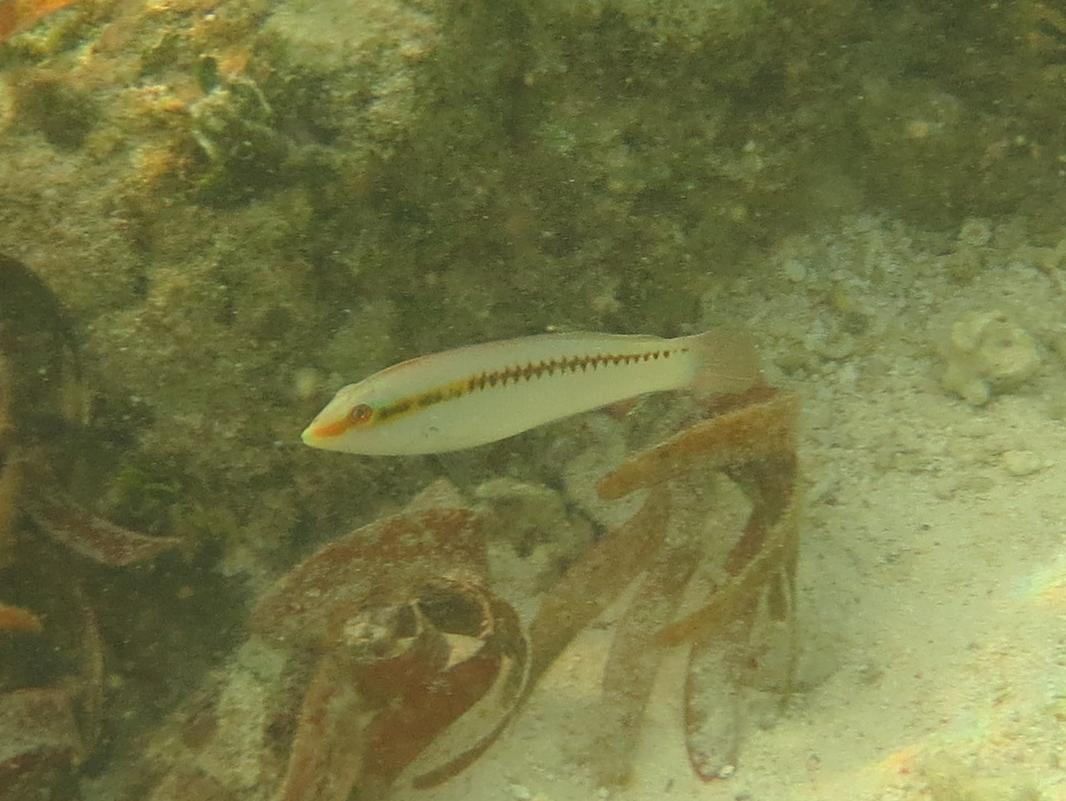Fish: (242, 308, 882, 487)
